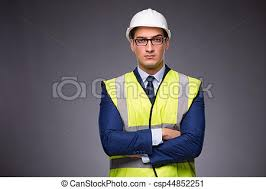Person_wearing_helmet: (121, 6, 175, 51)
